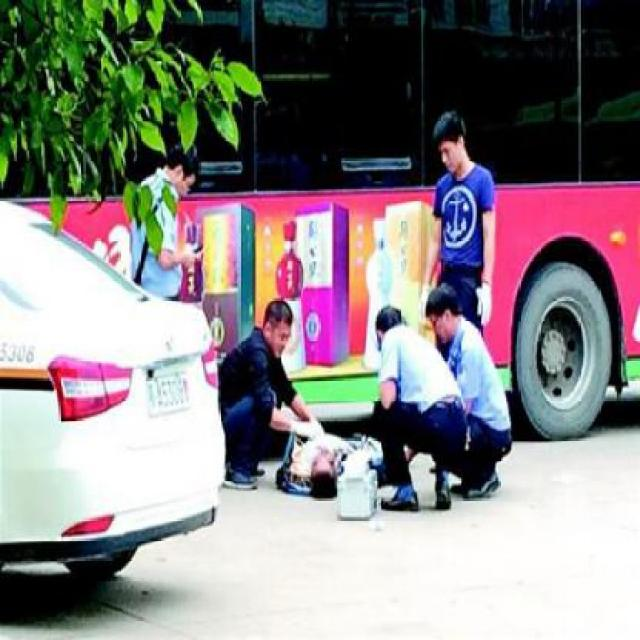fall: (265, 409, 390, 508)
